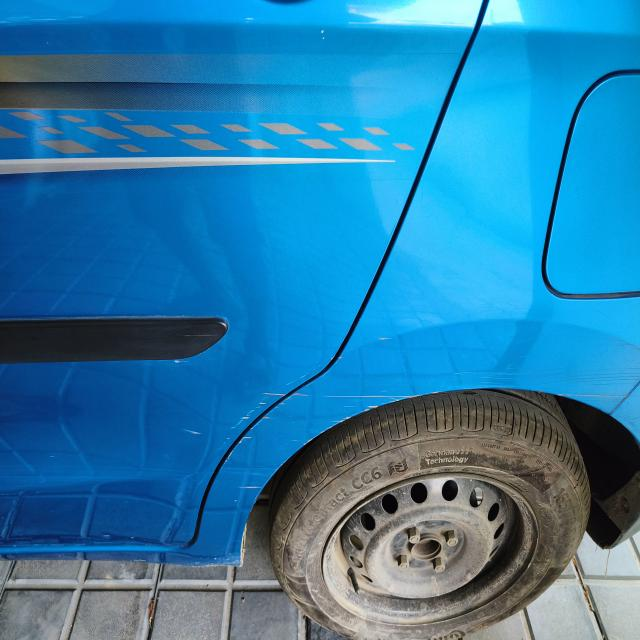scratch: (211, 372, 442, 493), (179, 422, 209, 442)
